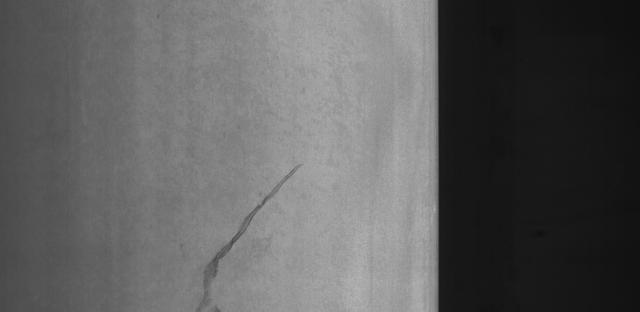water_spot: (187, 155, 311, 312)
